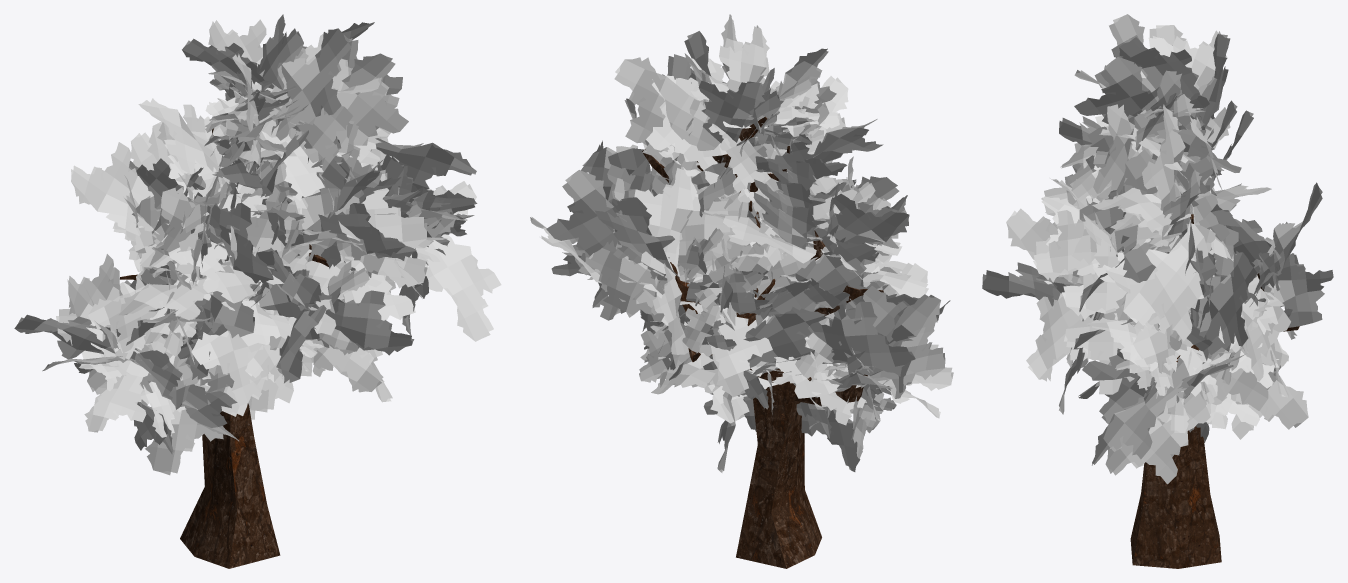
The model's file is tree2.fbx.
The picture shows the model from 3 angles, left to right: view 1: azimuth 30°, elevation 25°; view 2: azimuth 150°, elevation 25°; view 3: azimuth 270°, elevation 25°; orthographic projection. The views are drawn at different scales.
Visible parts, largest first — view 1: 3877913c9ee8911a740fcf2bfdaed610.037; view 2: 3877913c9ee8911a740fcf2bfdaed610.037; view 3: 3877913c9ee8911a740fcf2bfdaed610.037.
Part boxes in pixels (left/top/right/bottom): 3877913c9ee8911a740fcf2bfdaed610.037: left=14, top=14, right=501, bottom=568; 3877913c9ee8911a740fcf2bfdaed610.037: left=530, top=14, right=953, bottom=568; 3877913c9ee8911a740fcf2bfdaed610.037: left=982, top=14, right=1333, bottom=568.
Bounding box in the file's own units: 6.44 × 7.16 × 4.25.
